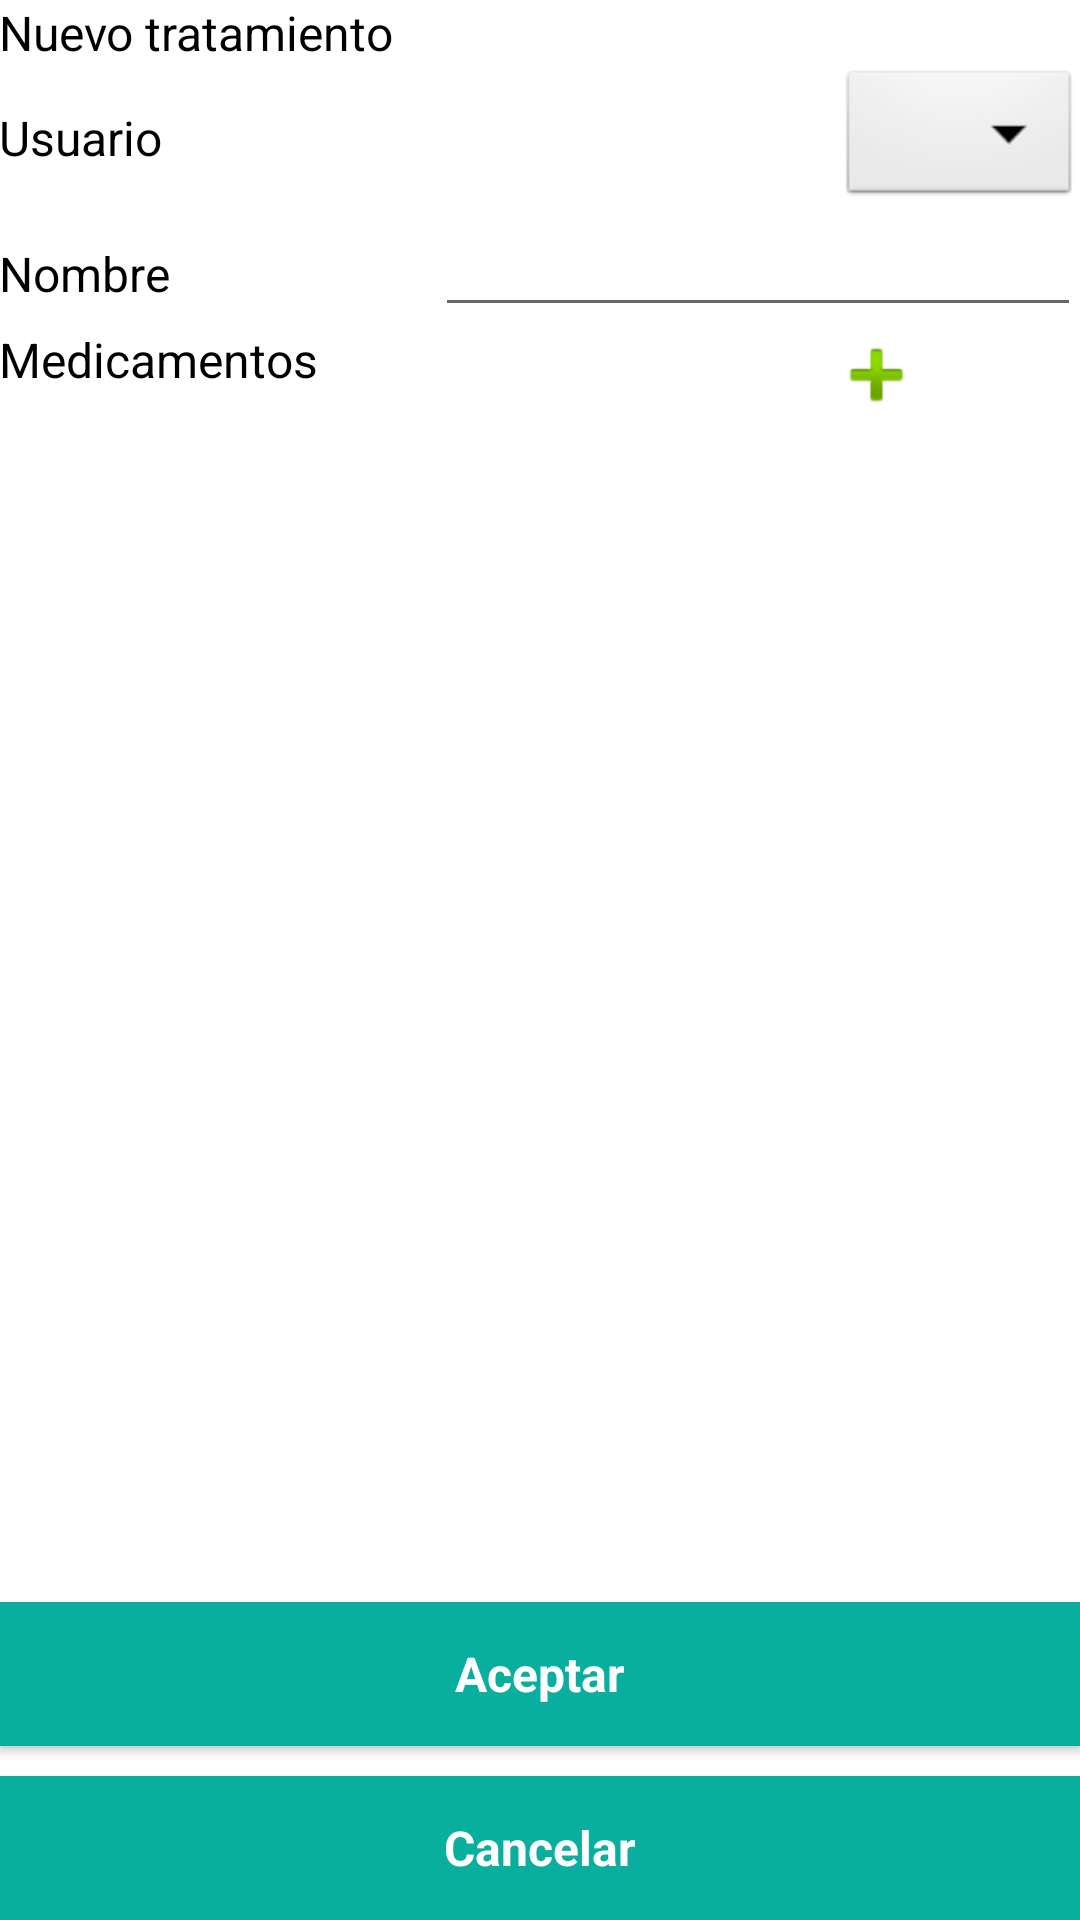

Screen size 1080w x 1920h. Icon name, then its box in pixels as [left=x1, top=y1, right=x2, bottom=y2]:
add: [left=849, top=348, right=904, bottom=402]
